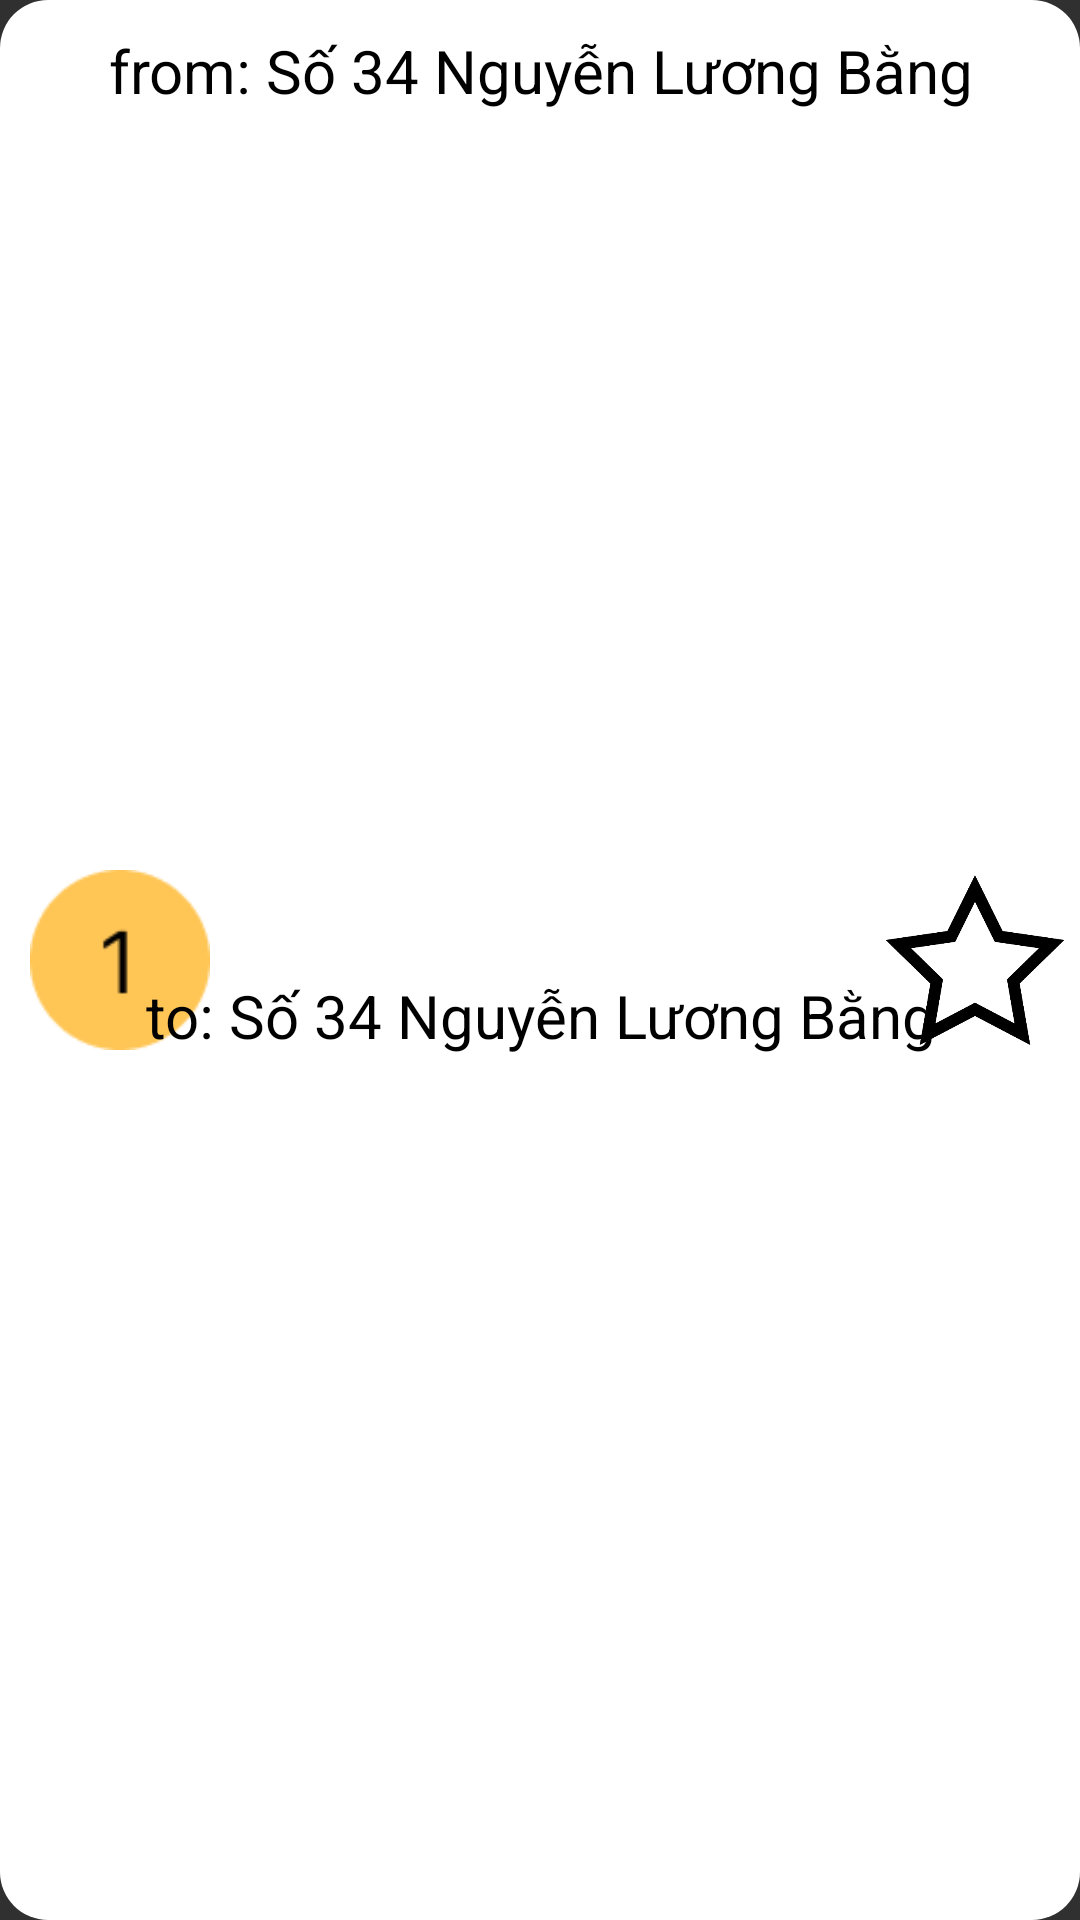

Where icons sit on this 1080w x 1920h app screen, as (x1, y1, x2, y2):
favorite off: (873, 876, 1064, 1052)
